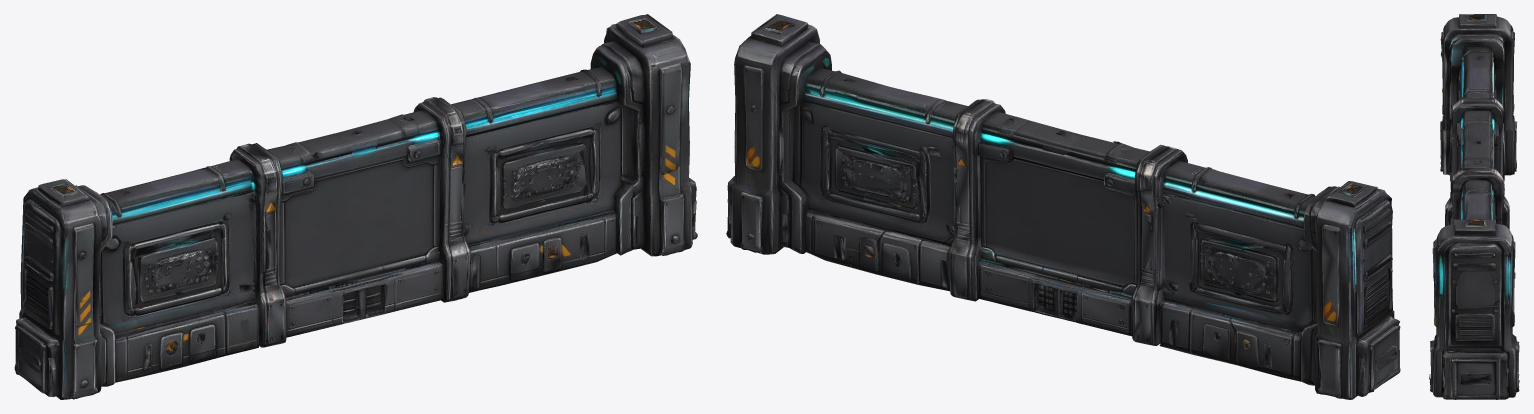
The model's file is cyber-wall-segment-v2.glb.
3 views of the same model, side by side, from view 1: azimuth 30°, elevation 25°; view 2: azimuth 150°, elevation 25°; view 3: azimuth 270°, elevation 25° (orthographic). The views are drawn at different scales.
Parts seen in each view (by area): view 1: Mesh_0; view 2: Mesh_0; view 3: Mesh_0.
Boxes of the visible parts, box(x1,y1,x2,y2) form: Mesh_0: box(14, 14, 697, 399); Mesh_0: box(726, 14, 1400, 399); Mesh_0: box(1429, 14, 1519, 399).
Size of the model in its own units: 1.87 by 0.6 by 0.2845.
Materials: 1 (1 with a texture image).
